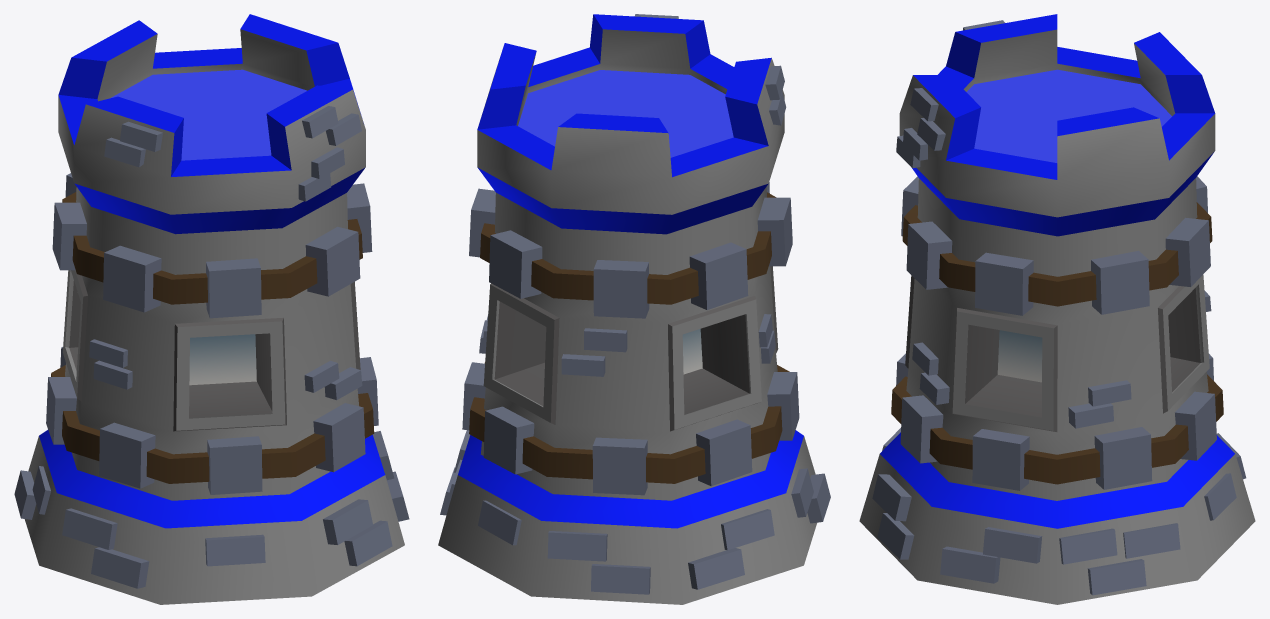
Rendered from Tower10 1.fbx.
The picture shows the model from 3 angles, left to right: view 1: azimuth 30°, elevation 25°; view 2: azimuth 150°, elevation 25°; view 3: azimuth 270°, elevation 25°; orthographic projection.
Visible parts, largest first — view 1: Tower10; view 2: Tower10; view 3: Tower10.
Boxes of the visible parts, x1,y1,x2,y2 form: Tower10: (14,14,409,604); Tower10: (438,14,830,604); Tower10: (859,14,1255,604).
Bounding box in the file's own units: 360 × 447 × 360.
